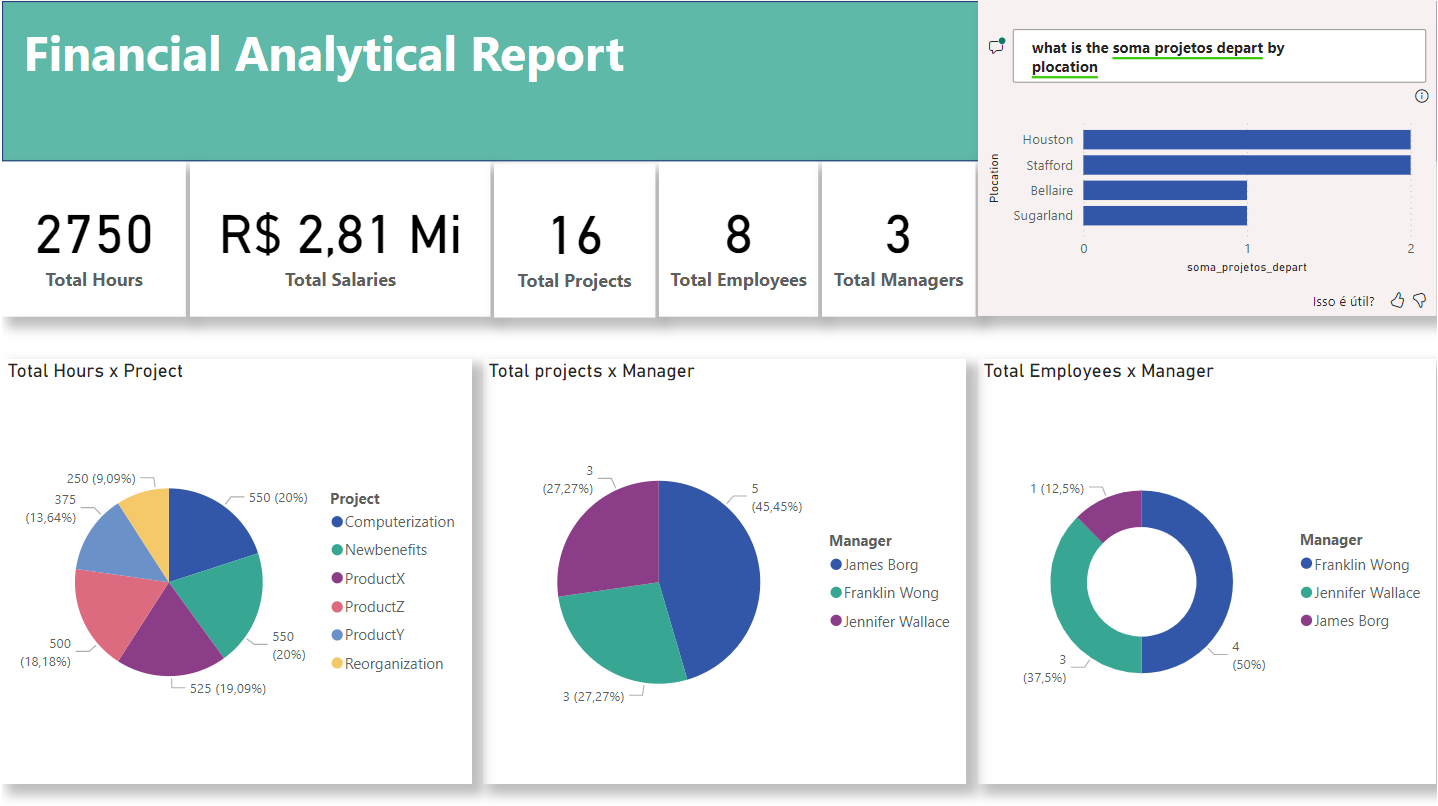

What the dashboard file says about the page in this screenshot:
{"tool":"powerbi","page":{"name":"Company","canvas":[1280,720],"ordinal":0},"visuals":[{"type":"pieChart","title":"Total Hours x Project","fields":{"Category":["project.Pname"],"Y":["works_on.Hours"]},"box":[0,319.6,418.7,379.4],"z":1000},{"type":"shape","box":[0,0,1279.9,143],"z":4000},{"type":"textbox","box":[14.4,11.5,635,74.9],"z":6000},{"type":"pieChart","title":"Total projects x Manager","fields":{"Category":["employee_depart.Manager"],"Y":["project.Project_ID"]},"box":[428.9,319.6,430.7,379.4],"z":7000},{"type":"donutChart","title":"Total Employees x Manager","fields":{"Category":["department.Mgr_name"],"Y":["employee_depart.Ssn"]},"box":[871.2,319.7,409,378.7],"z":8000},{"type":"card","fields":{"Values":["works_on.Hours"]},"box":[0,144,164.2,138.2],"z":10000},{"type":"card","fields":{"Values":["employee_dep.Salary"]},"box":[167.5,143.6,268.3,138.4],"z":10125},{"type":"card","fields":{"Values":["works_on.Project_ID"]},"box":[439.2,145.3,143.6,136.7],"z":10250},{"type":"card","fields":{"Values":["employee_dep.Full_name"]},"box":[586.2,143.6,141.8,138.4],"z":10500},{"type":"card","fields":{"Values":["department.Mgr_ssn"]},"box":[731.4,143.6,136.7,138.4],"z":11000},{"type":"qnaVisual","box":[871.2,0,409,280.8],"z":11500}]}

Visuals, with their boxes in screenshot pixels (x1, y1, x2, y2), scaled from the page's 1280x720 canvas onto the 1438x806 screenshot:
"Total Hours x Project" pieChart: 0 358 470 782
shape: 0 0 1437 160
textbox: 16 13 730 97
"Total projects x Manager" pieChart: 482 358 966 782
"Total Employees x Manager" donutChart: 979 358 1437 782
card - works_on.Hours: 0 161 184 316
card - employee_dep.Salary: 188 161 490 316
card - works_on.Project_ID: 493 163 655 316
card - employee_dep.Full_name: 659 161 818 316
card - department.Mgr_ssn: 822 161 975 316
qnaVisual: 979 0 1437 314
